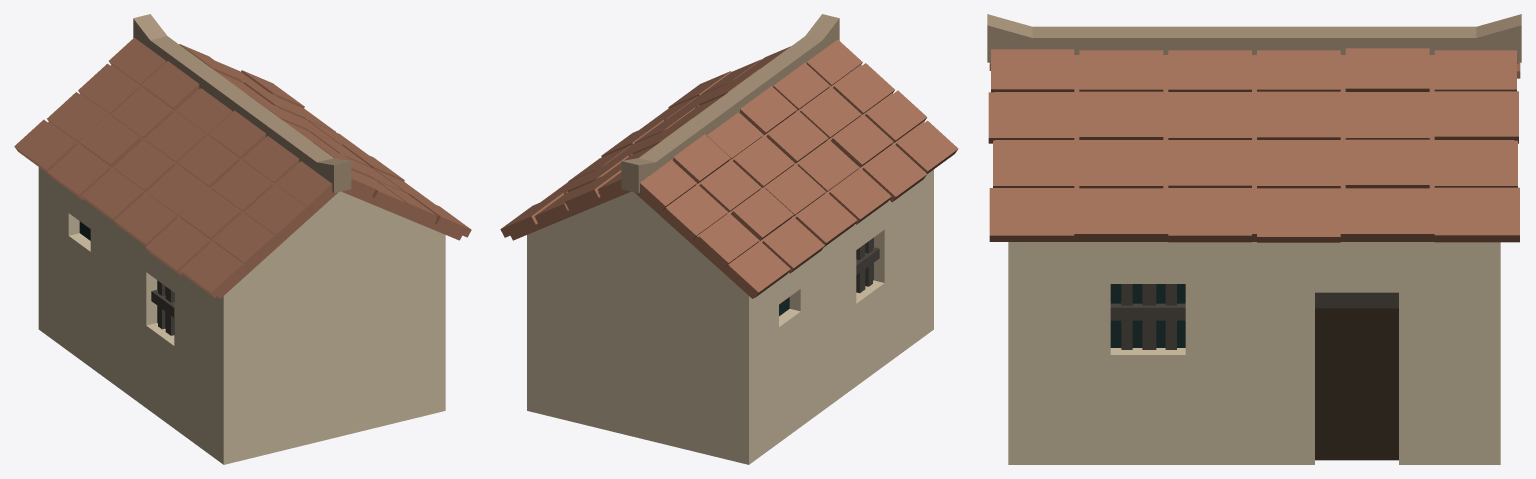
Rendered from Building_mode_L2_Northhouse005.fbx.
The picture shows the model from 3 angles, left to right: view 1: azimuth 30°, elevation 25°; view 2: azimuth 150°, elevation 25°; view 3: azimuth 270°, elevation 25°; orthographic projection. The views are drawn at different scales.
Visible parts, largest first — view 1: Building_mode_L2_Northhouse005; view 2: Building_mode_L2_Northhouse005; view 3: Building_mode_L2_Northhouse005.
Boxes of the visible parts, <box> form: Building_mode_L2_Northhouse005: <box>14,14,471,464</box>; Building_mode_L2_Northhouse005: <box>500,14,958,464</box>; Building_mode_L2_Northhouse005: <box>987,14,1521,464</box>.
Bounding box in the file's own units: 2.86 × 2.93 × 3.8.
